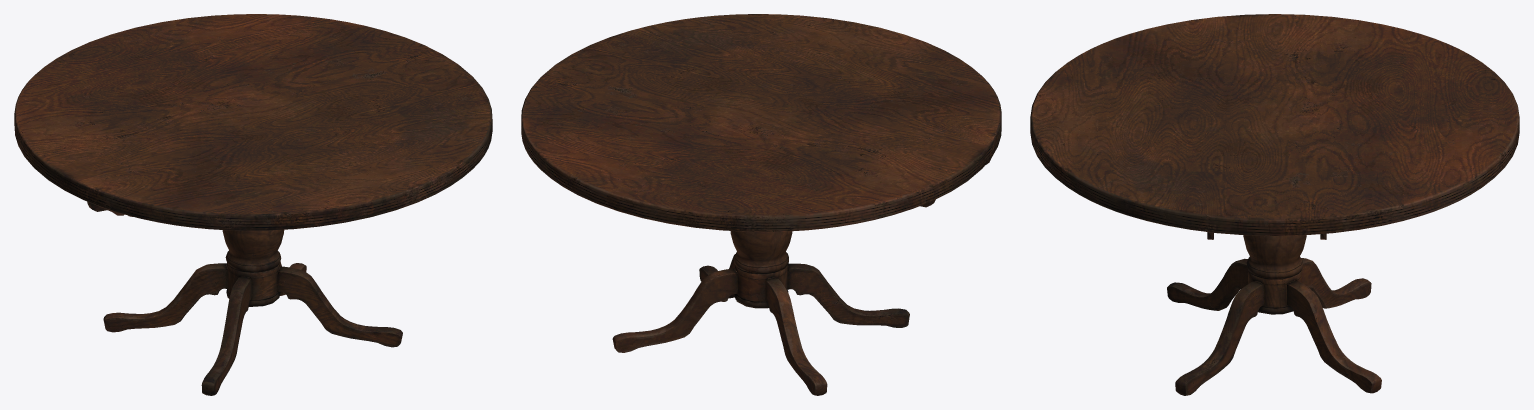
File: Round_Table.fbx
3 views of the same model, side by side, from view 1: azimuth 30°, elevation 25°; view 2: azimuth 150°, elevation 25°; view 3: azimuth 270°, elevation 25° (orthographic). The views are drawn at different scales.
Visible parts, largest first — view 1: Table_mesh_LOD0; view 2: Table_mesh_LOD0; view 3: Table_mesh_LOD0.
Part boxes in pixels (bbox=[...]): Table_mesh_LOD0: bbox=[14, 14, 492, 395]; Table_mesh_LOD0: bbox=[521, 14, 1001, 395]; Table_mesh_LOD0: bbox=[1030, 14, 1519, 395].
Size of the model in its own units: 151 by 78.21 by 151.
